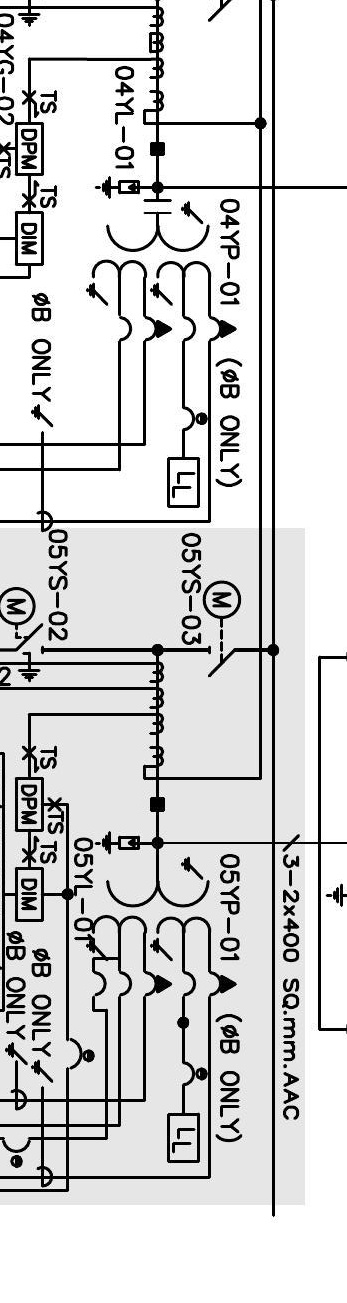115_1way_ds_w_motor: (202, 579, 242, 678)
115_cvt_1p: (85, 198, 237, 344)
115_la: (94, 175, 140, 200), (94, 831, 140, 855)
115_vt_1p: (86, 856, 237, 999)
DIM: (14, 211, 44, 266), (14, 867, 44, 922)
DPM: (14, 777, 44, 832), (15, 122, 44, 176)
LL: (166, 1112, 200, 1164), (166, 457, 200, 508)
